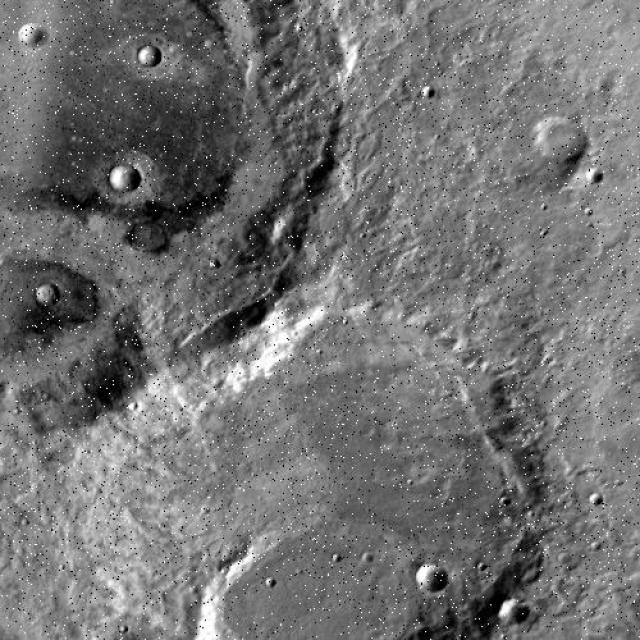crater: (0, 0, 378, 457), (212, 482, 582, 640), (180, 504, 472, 640), (507, 566, 640, 640), (576, 81, 640, 206), (569, 586, 640, 640), (617, 383, 640, 426), (613, 610, 640, 640), (618, 397, 640, 430), (614, 614, 640, 640), (626, 307, 640, 347), (627, 247, 640, 270), (630, 142, 640, 168), (623, 624, 639, 640), (630, 621, 640, 640), (630, 628, 640, 640), (632, 627, 640, 640)
